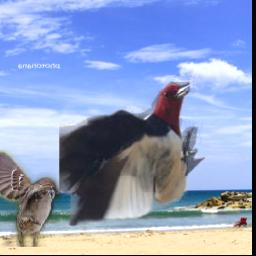Sparrow: (0, 150, 61, 247)
Woodpecker: (58, 74, 204, 226)
